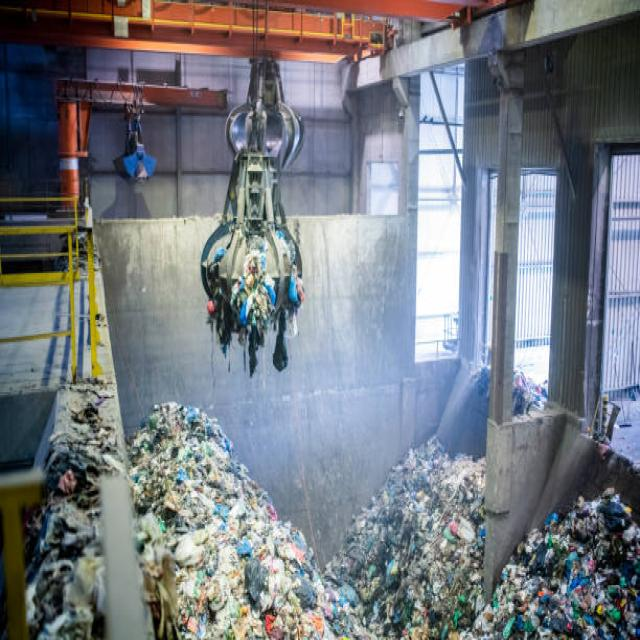plastic: (361, 499, 612, 640), (527, 528, 632, 636), (398, 466, 476, 610)
trash: (130, 404, 320, 640), (243, 274, 279, 340)
